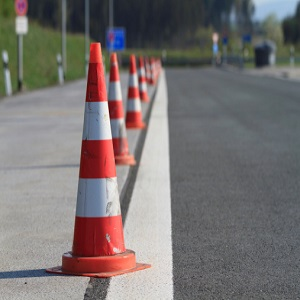traffic cone: (45, 42, 151, 278), (101, 52, 136, 169), (122, 54, 147, 130)
